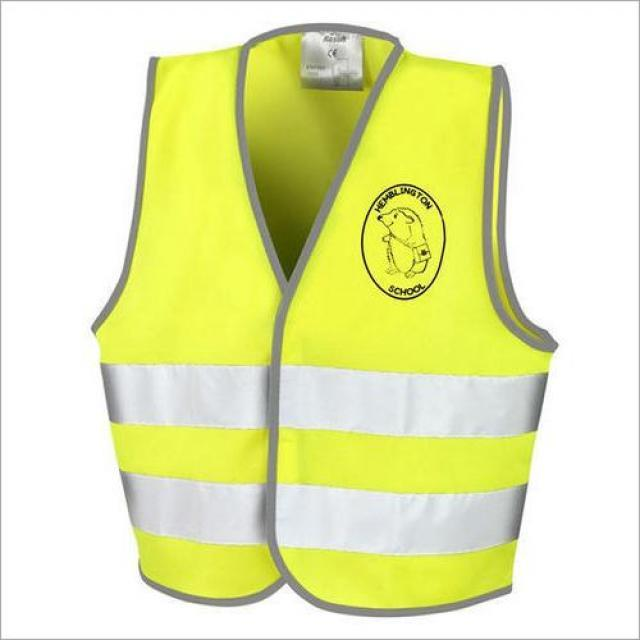reflective_jacket: (52, 23, 578, 631)
